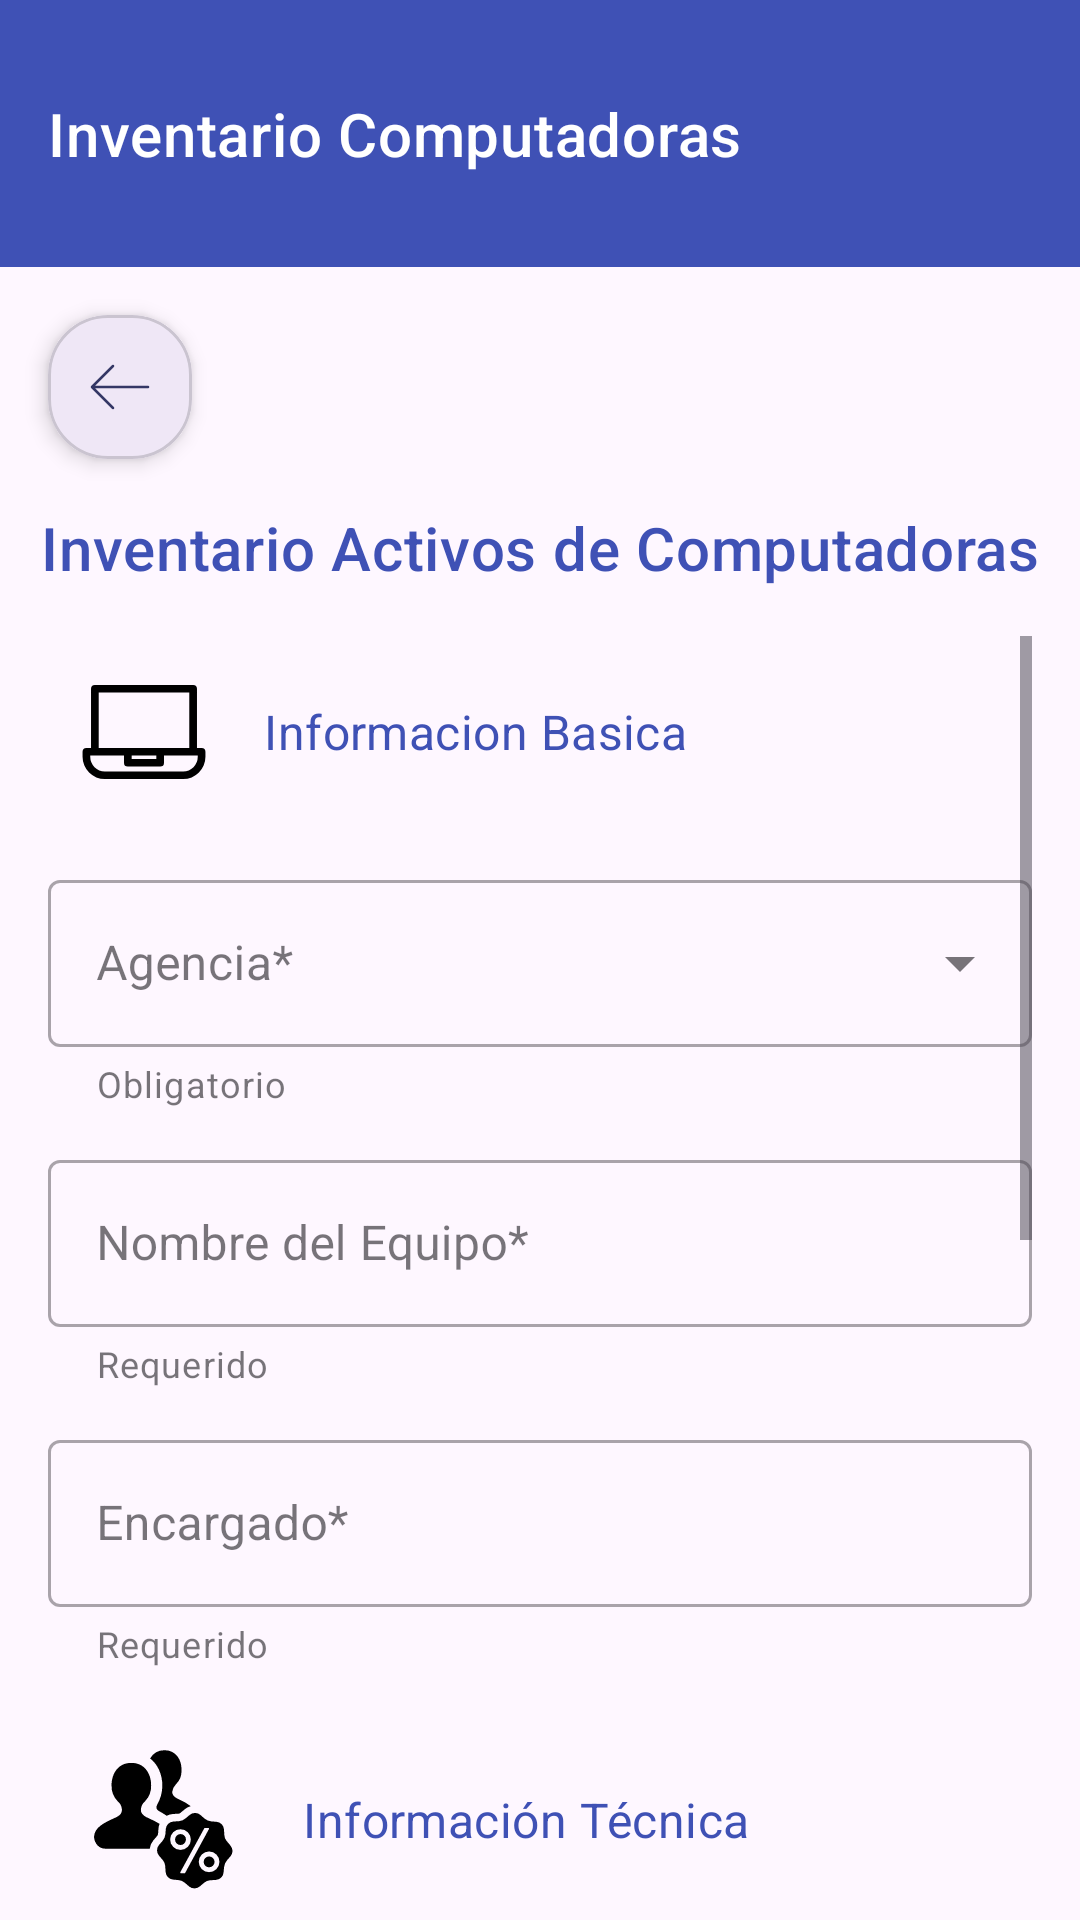

Screen size 1080w x 1920h. Icon name, then its box in pixels as bbox=[x1, y1, x2, y2]:
Regresar: bbox=[48, 315, 192, 459]
